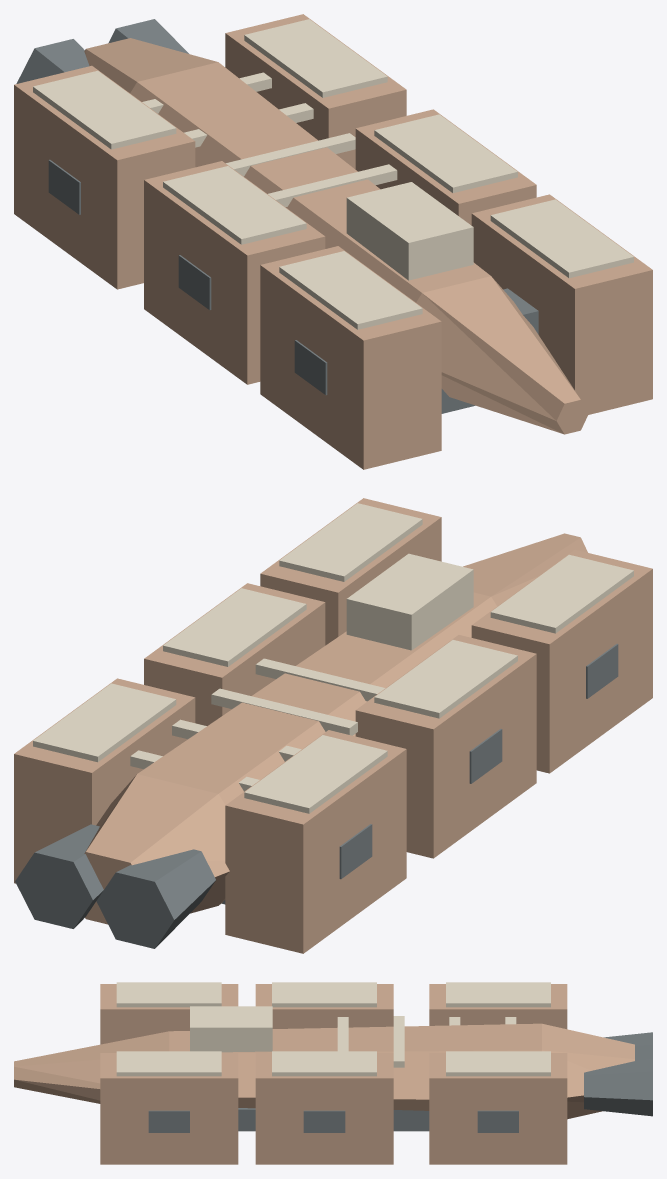
3 views of the same model, one above another, from view 1: azimuth 30°, elevation 25°; view 2: azimuth 150°, elevation 25°; view 3: azimuth 270°, elevation 25° (orthographic). The views are drawn at different scales.
Bounding box in the file's own units: 3.6 × 1.77 × 10.19.
